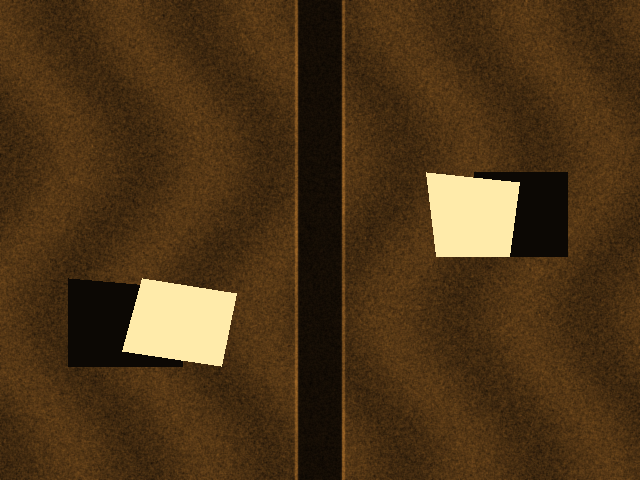Other Man-made Debris: (426, 172, 519, 256)
Unknown Anomaly: (122, 278, 236, 366)
